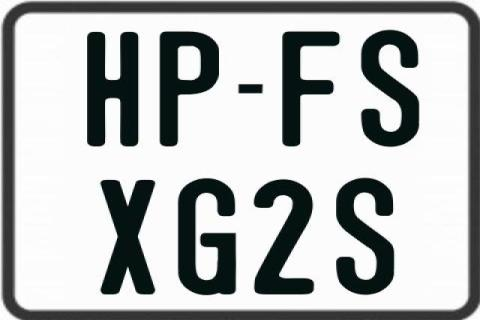0: (252, 177, 318, 295)
F: (282, 31, 344, 149)
G: (175, 178, 236, 298)
H: (84, 31, 141, 149)
P: (157, 30, 216, 148)
S: (358, 28, 420, 148), (336, 176, 397, 294)
X: (101, 180, 160, 298)
